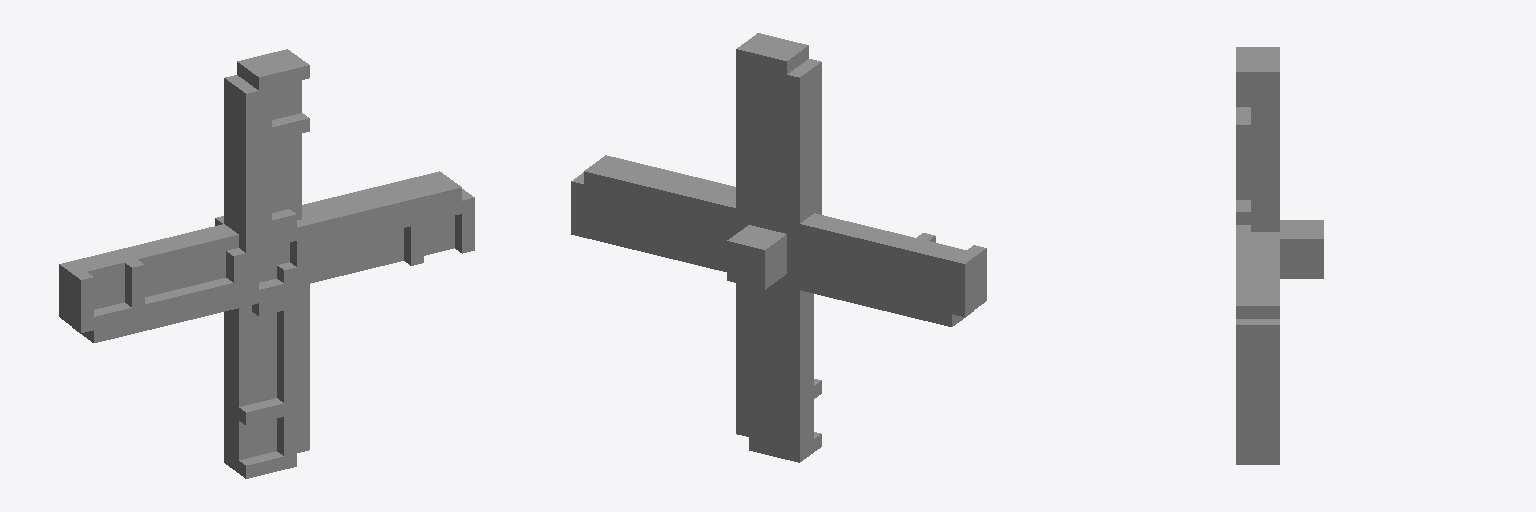
Rendered from windmill-blades.obj.
3 views of the same model, side by side, from view 1: azimuth 30°, elevation 25°; view 2: azimuth 150°, elevation 25°; view 3: azimuth 270°, elevation 25° (orthographic).
Parts seen in each view (by area): view 1: windmill-blades.windmill-blades_Plane-tex; view 2: windmill-blades.windmill-blades_Plane-tex; view 3: windmill-blades.windmill-blades_Plane-tex.
Part boxes in pixels (left/top/right/bottom): windmill-blades.windmill-blades_Plane-tex: left=59, top=49, right=474, bottom=478; windmill-blades.windmill-blades_Plane-tex: left=571, top=33, right=986, bottom=462; windmill-blades.windmill-blades_Plane-tex: left=1236, top=47, right=1323, bottom=464.
Size of the model in its own units: 3.1 by 3 by 0.6.